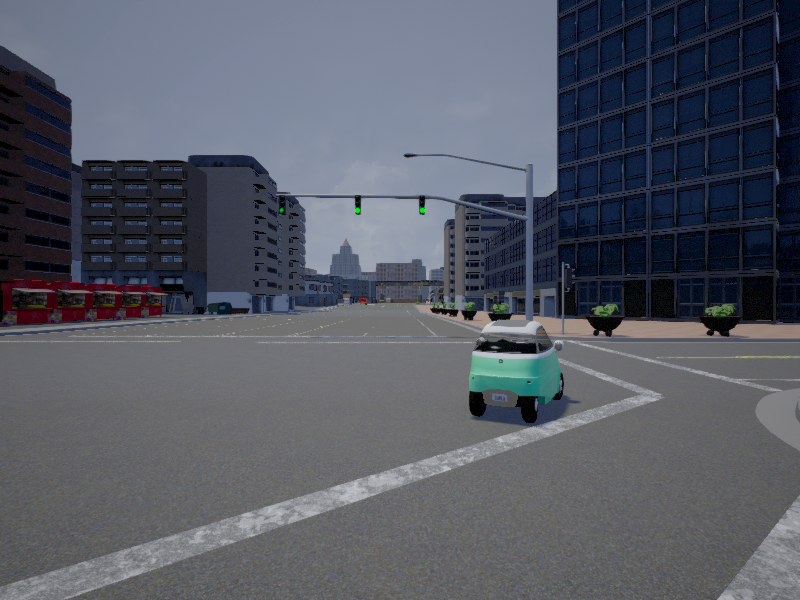Benign: (469, 318, 565, 423)
